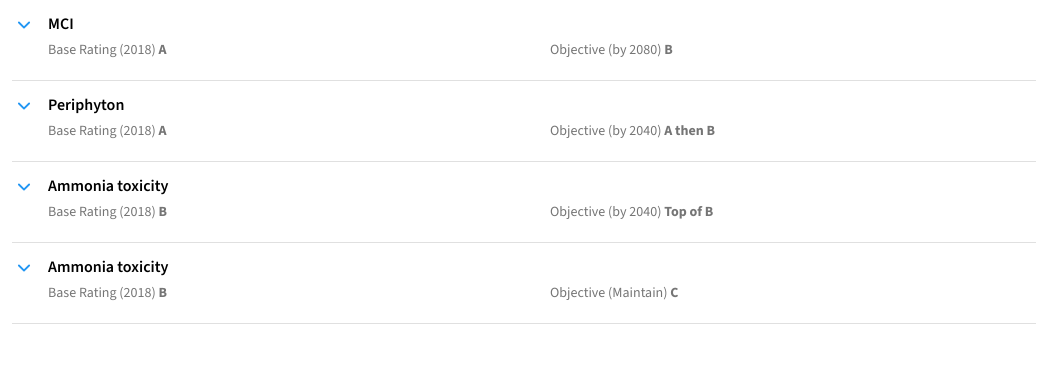
Test: ContaminantsTable › renders the correct number of rows and columns
This screenshot has width=1048, height=373.
Expected: the number of elements with test id "contaminant-base" is 4, [48, 40, 166, 59]; [48, 121, 166, 140]; [48, 202, 167, 221]; [48, 283, 167, 302]
Expected: the number of elements with test id "contaminant-objective" is 4, [550, 40, 673, 59]; [550, 121, 715, 140]; [550, 202, 713, 221]; [550, 283, 678, 302]
Click the element with test id "contaminant-expander" next to "MCI" at {"x": 22, "y": 24}, box [12, 12, 32, 36]
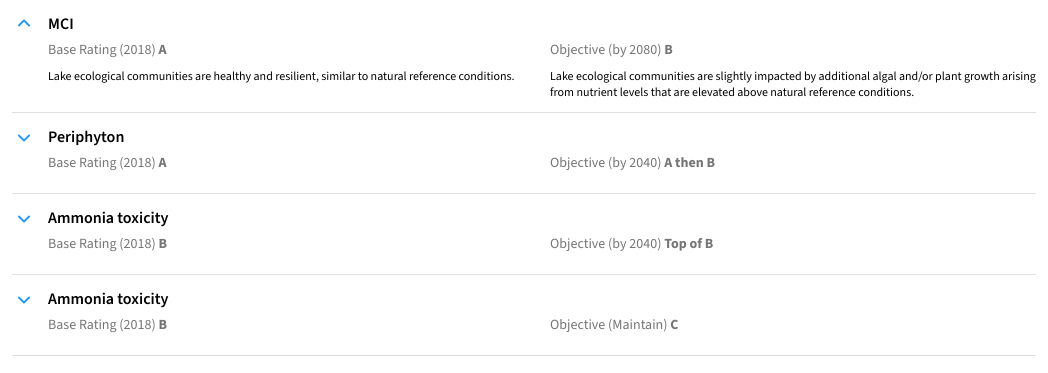
Expected: the element with test id "contaminant-base-desc" is shown, [48, 68, 514, 84]
Expected: the element with test id "contaminant-objective-desc" is shown, [534, 68, 1036, 100]
